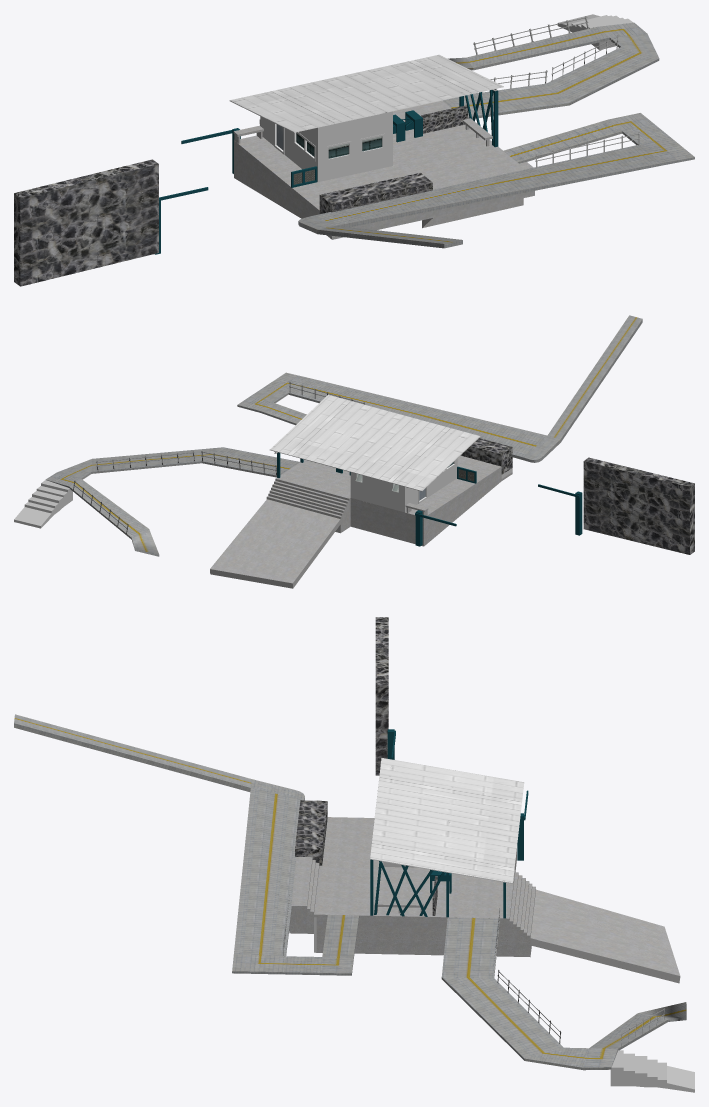
The model's file is porteria_pilarica.fbx.
3 renders of one model, top to bottom at view 1: azimuth 30°, elevation 25°; view 2: azimuth 150°, elevation 25°; view 3: azimuth 270°, elevation 25°, orthographic. The views are drawn at different scales.
Visible parts, largest first — view 1: polySurface2693, pCube49, rampa_1, polySurface2694, rampa_2, polySurface2658, escalitas, polySurface2695, pPlane1; view 2: polySurface2693, polySurface2694, rampa_1, pCube49, rampabajada, rampa_2, escalitas; view 3: polySurface2693, rampa_1, polySurface2694, rampa_2, rampabajada, escalitas, pCube49, polySurface2658.
Part boxes in pixels (box(x1,y1,x2,y2)): polySurface2693: box(233, 100, 523, 239); pCube49: box(14, 159, 158, 286); rampa_1: box(298, 113, 694, 248); polySurface2694: box(229, 54, 503, 132); rampa_2: box(442, 22, 659, 118); polySurface2658: box(433, 162, 534, 217); escalitas: box(557, 14, 633, 50); polySurface2695: box(421, 105, 467, 133); pPlane1: box(535, 132, 640, 167); polySurface2693: box(266, 438, 512, 546); polySurface2694: box(269, 395, 480, 491); rampa_1: box(237, 315, 642, 462); pCube49: box(583, 457, 694, 554); rampabajada: box(210, 499, 340, 588); rampa_2: box(45, 447, 299, 556); escalitas: box(14, 480, 72, 528); polySurface2693: box(295, 800, 535, 957); rampa_1: box(14, 714, 359, 975); polySurface2694: box(370, 758, 524, 883); rampa_2: box(441, 917, 686, 1070); rampabajada: box(530, 889, 680, 983); escalitas: box(610, 1050, 694, 1092); pCube49: box(375, 617, 388, 775); polySurface2658: box(289, 857, 319, 933).
Bounding box in the file's own units: 527 × 104 × 420.
